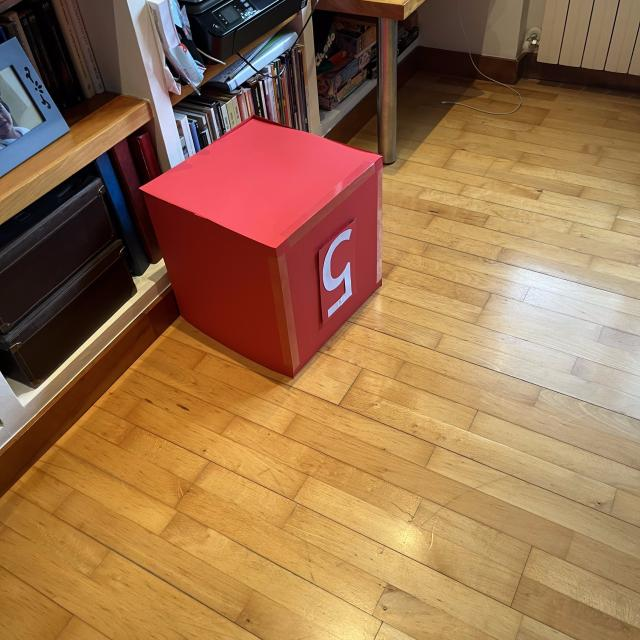box: (138, 113, 387, 381)
